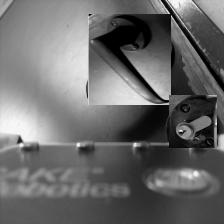Door Handle: (86, 16, 174, 103)
Lock: (168, 96, 218, 146)
